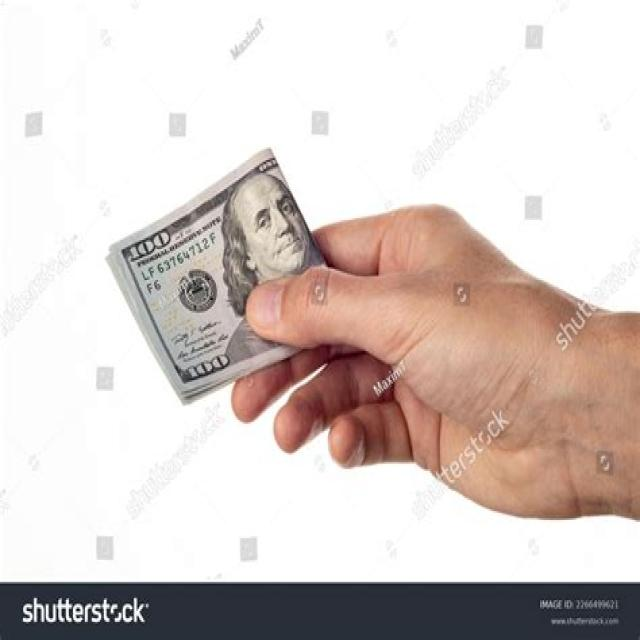Hundred: (107, 148, 346, 396)
